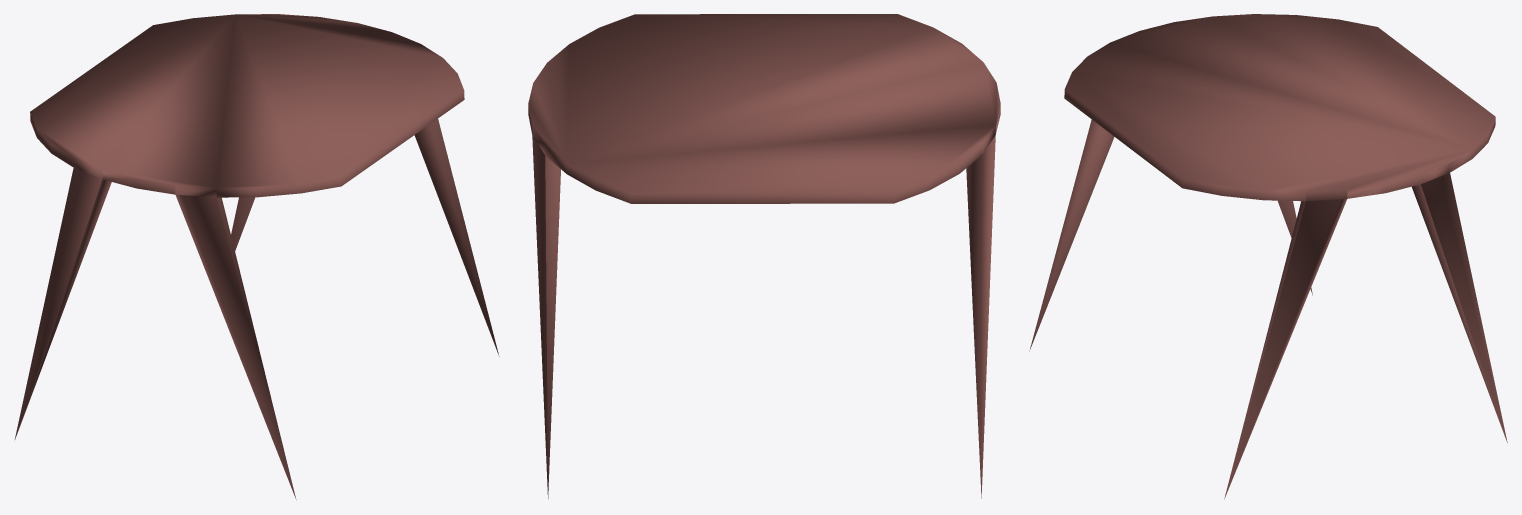
File: circle.002_lev3.glb
3 renders of one model, left to right at view 1: azimuth 30°, elevation 25°; view 2: azimuth 150°, elevation 25°; view 3: azimuth 270°, elevation 25°, orthographic. The views are drawn at different scales.
Visible parts, largest first — view 1: circle.002_lev3; view 2: circle.002_lev3; view 3: circle.002_lev3.
Boxes of the visible parts, <box> form: circle.002_lev3: <box>14,14,499,499</box>; circle.002_lev3: <box>528,14,1000,498</box>; circle.002_lev3: <box>1029,14,1507,499</box>.
Size of the model in its own units: 0.3595 by 0.2412 by 0.3403.
